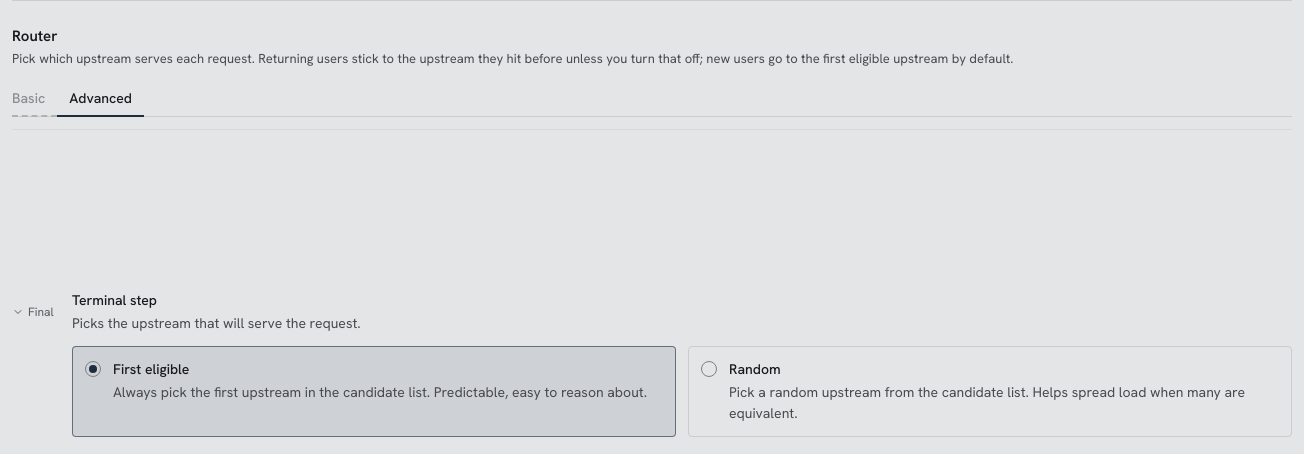
Test case: complex chain forces Advanced and disables Basic with tooltip
Click the tab "Basic" at (35, 99), box left=12, top=81, right=57, bottom=117
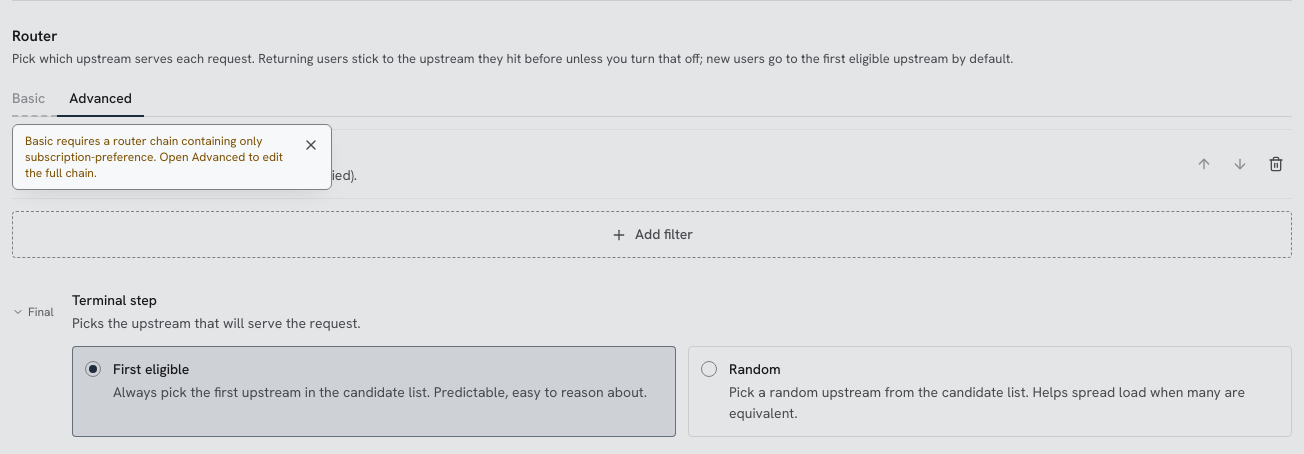
Now the button named "Dismiss" is shown, box left=295, top=129, right=327, bottom=161
